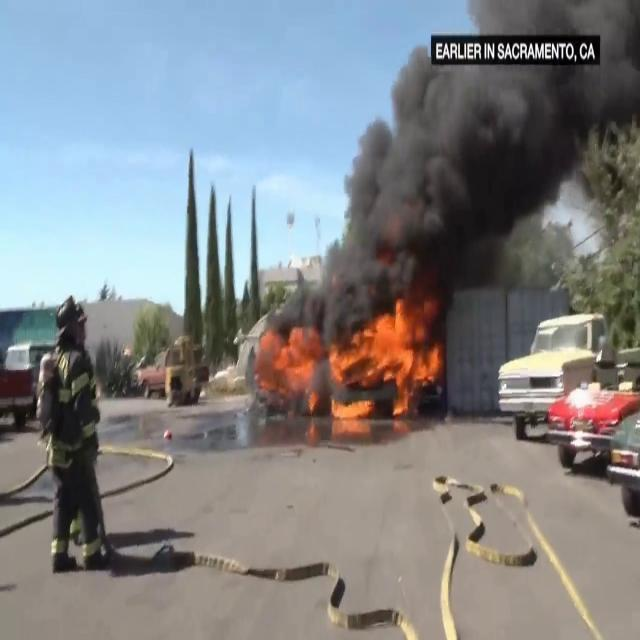Fire: (258, 296, 446, 431)
Smoke: (313, 0, 640, 308)
